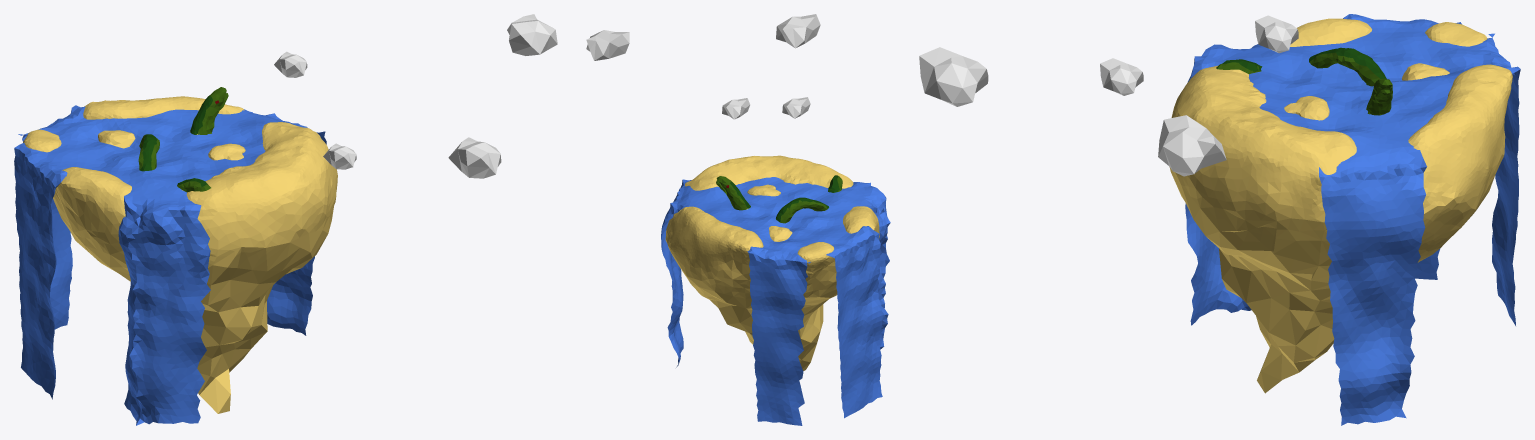
Rendered from SandyIsland3.fbx.
3 views of the same model, side by side, from view 1: azimuth 30°, elevation 25°; view 2: azimuth 150°, elevation 25°; view 3: azimuth 270°, elevation 25° (orthographic). The views are drawn at different scales.
Parts seen in each view (by area): view 1: Plane.001, Icosphere, Wolke.002, Wolke, Wolke.001, Wolke.003; view 2: Plane.001, Icosphere, Wolke, Wolke.002, Wolke.001, Wolke.003; view 3: Icosphere, Plane.001, Wolke, Wolke.002, Wolke.001, Wolke.003.
Boxes of the visible parts, x1,y1,x2,y2 form: Plane.001: (14,105,326,425); Icosphere: (23,87,337,413); Wolke.002: (507,14,557,55); Wolke: (448,137,501,178); Wolke.001: (323,143,356,169); Wolke.003: (274,51,307,77); Plane.001: (661,177,890,425); Icosphere: (665,155,879,370); Wolke: (776,14,820,48); Wolke.002: (586,30,629,60); Wolke.001: (782,97,810,118); Wolke.003: (722,98,750,119); Icosphere: (1169,18,1512,393); Plane.001: (1185,14,1520,425); Wolke: (919,47,988,106); Wolke.002: (1158,115,1226,176); Wolke.001: (1100,58,1143,95); Wolke.003: (1255,15,1298,53).
Size of the model in its own units: 64253 by 48624 by 62055.
